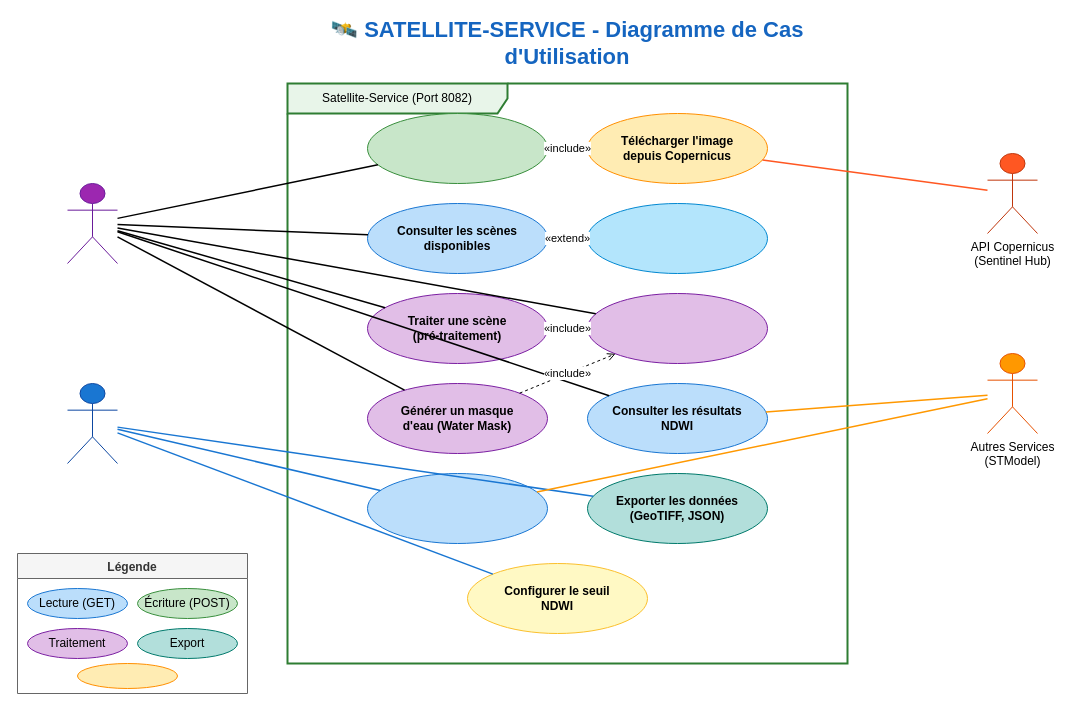
Image size: 1072x711. Some labels were removed from this diagram. Each missing label, with the centre of its shape:
Administrateur: point 92,423
Calculer l'indice NDWI: point 677,328
Consulter les masques d'eau générés: point 457,508
Data Scientist / Analyste: point 92,223
Externe: point 127,675
Filtrer par satellite (S1, S2, Landsat): point 677,238
Ingérer une scène satellite (Sentinel): point 457,148
